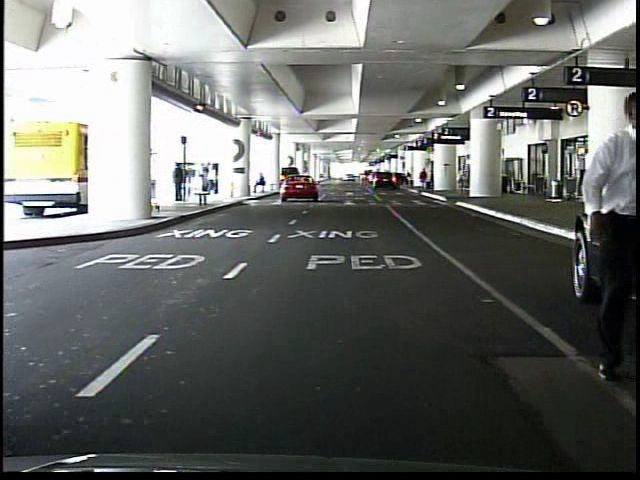person: (574, 89, 638, 380), (172, 161, 187, 204), (456, 166, 468, 195), (254, 172, 268, 196), (418, 167, 428, 191)
